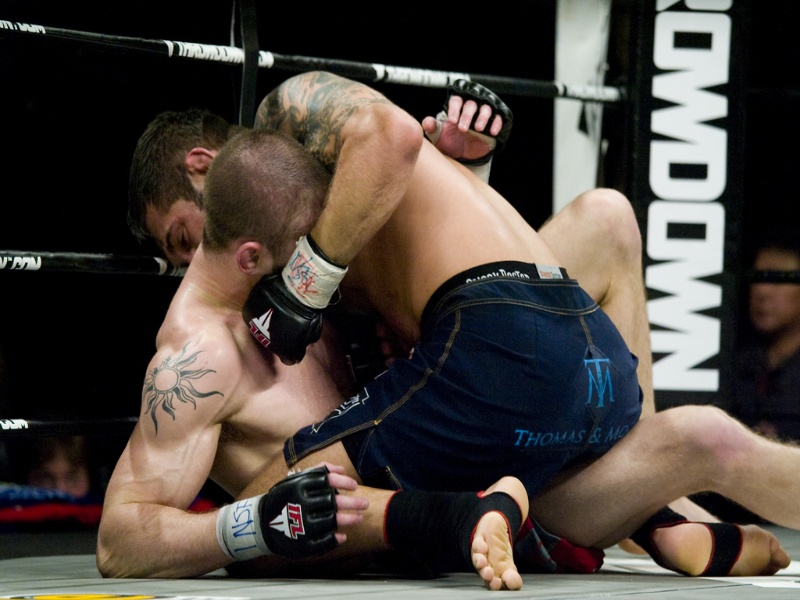person: (139, 94, 640, 474), (211, 134, 402, 577), (745, 212, 800, 435)
